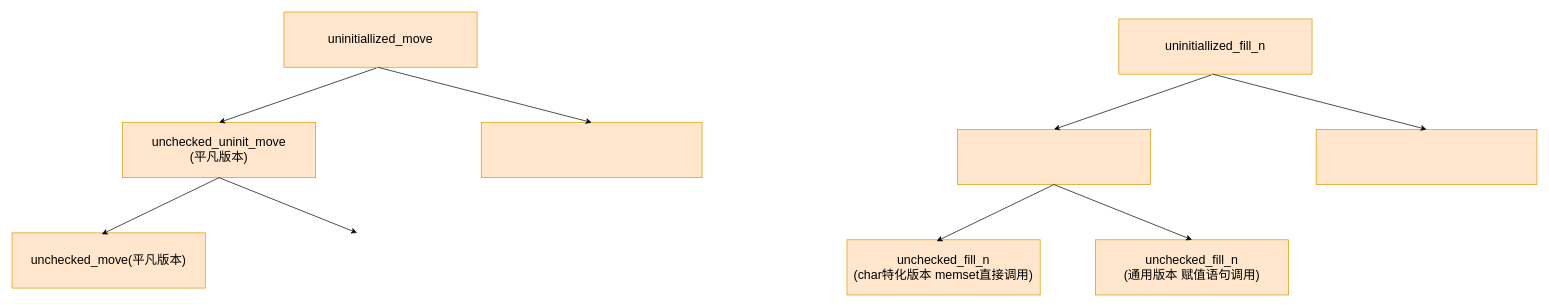
This 1549x307 diagram has some shape labels left out. The shapes that lost their labels are listed below. From the top down, each one's centre as x and y in pixels, then its label:
the point at 591,150: unchecked_uninit_move (非平凡版本 调用移动构造函数构建)
the point at 1054,157: unchecked_uninit_fill_n(平凡版本)
the point at 1426,157: unchecked_uninit_fill_n (非平凡版本 调用复制构造函数构造)
